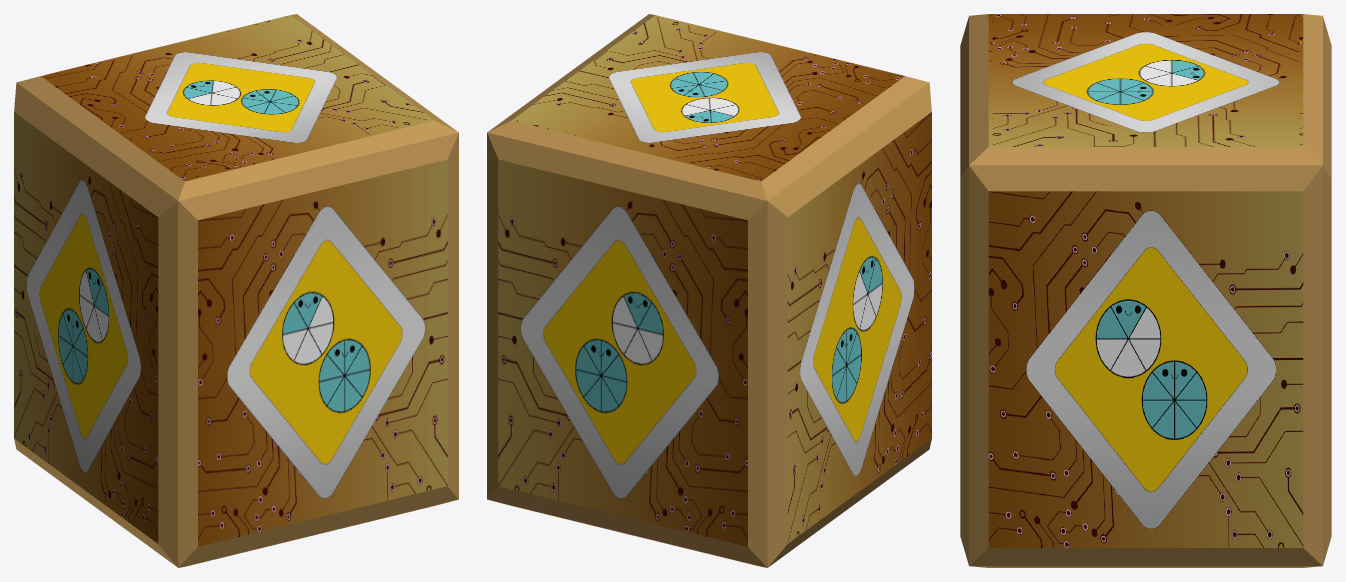
3 renders of one model, left to right at view 1: azimuth 30°, elevation 25°; view 2: azimuth 150°, elevation 25°; view 3: azimuth 270°, elevation 25°, orthographic. The views are drawn at different scales.
Visible parts, largest first — view 1: 10/8; view 2: 10/8; view 3: 10/8.
Boxes of the visible parts, x1,y1,x2,y2 form: 10/8: [14, 14, 458, 567]; 10/8: [487, 14, 931, 567]; 10/8: [960, 14, 1331, 567].
Bounding box in the file's own units: 213 × 263 × 210.
Materials: 2 (1 with a texture image).
